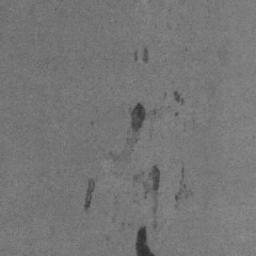Iron scale compression: (132, 165, 160, 230), (174, 167, 193, 206), (136, 227, 155, 256), (130, 103, 145, 131), (84, 179, 95, 211), (173, 91, 185, 104), (142, 47, 148, 63), (134, 50, 137, 63)
